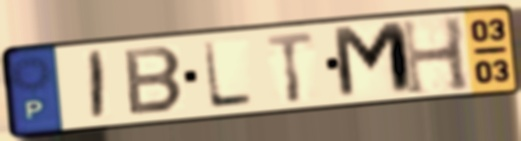B: (121, 44, 187, 118)
H: (397, 14, 475, 99)
I: (89, 48, 108, 124)
L: (199, 39, 256, 111)
M: (328, 19, 418, 103)
T: (263, 29, 318, 105)
